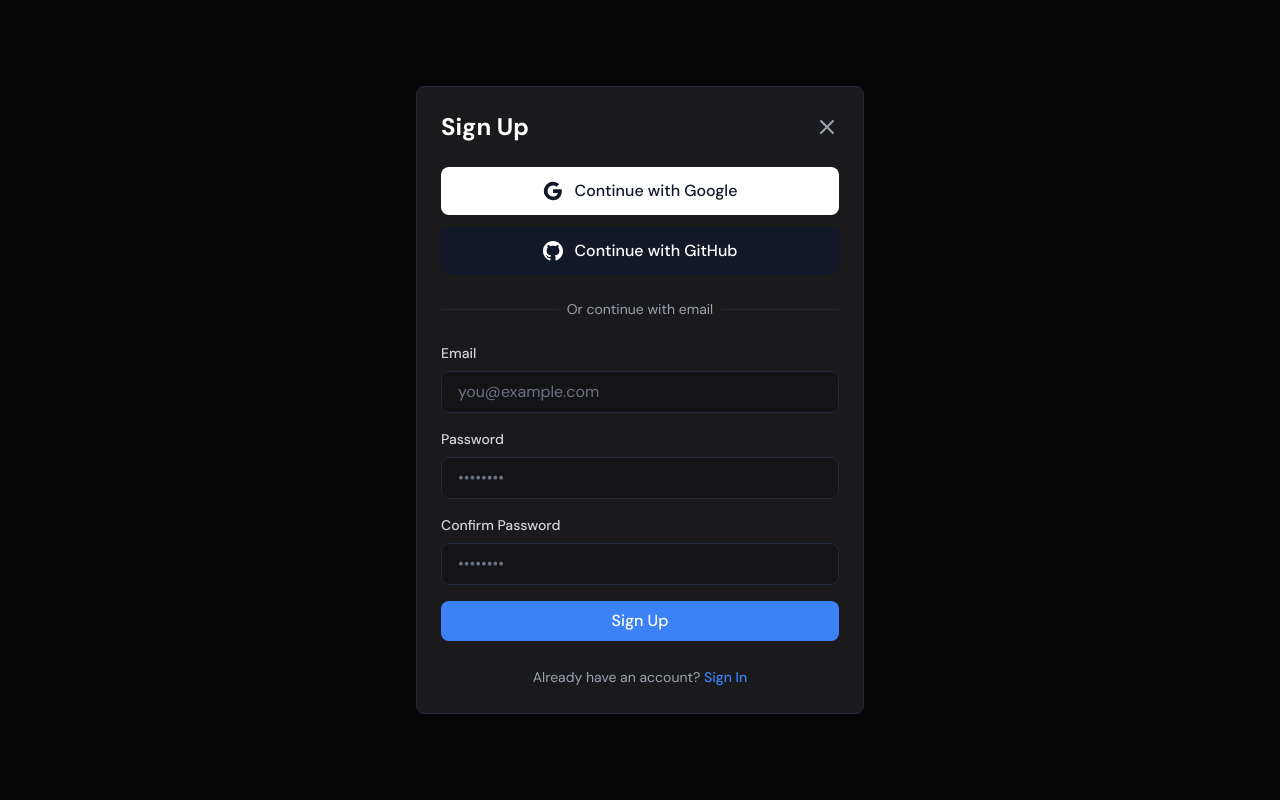
AuthModal › switches from sign up to sign in mode
Check: the heading "Sign Up" is shown, box [441,111,529,143]
Click the button "Already have an account? Sign In" at x=640, y=677, box [533,667,747,687]
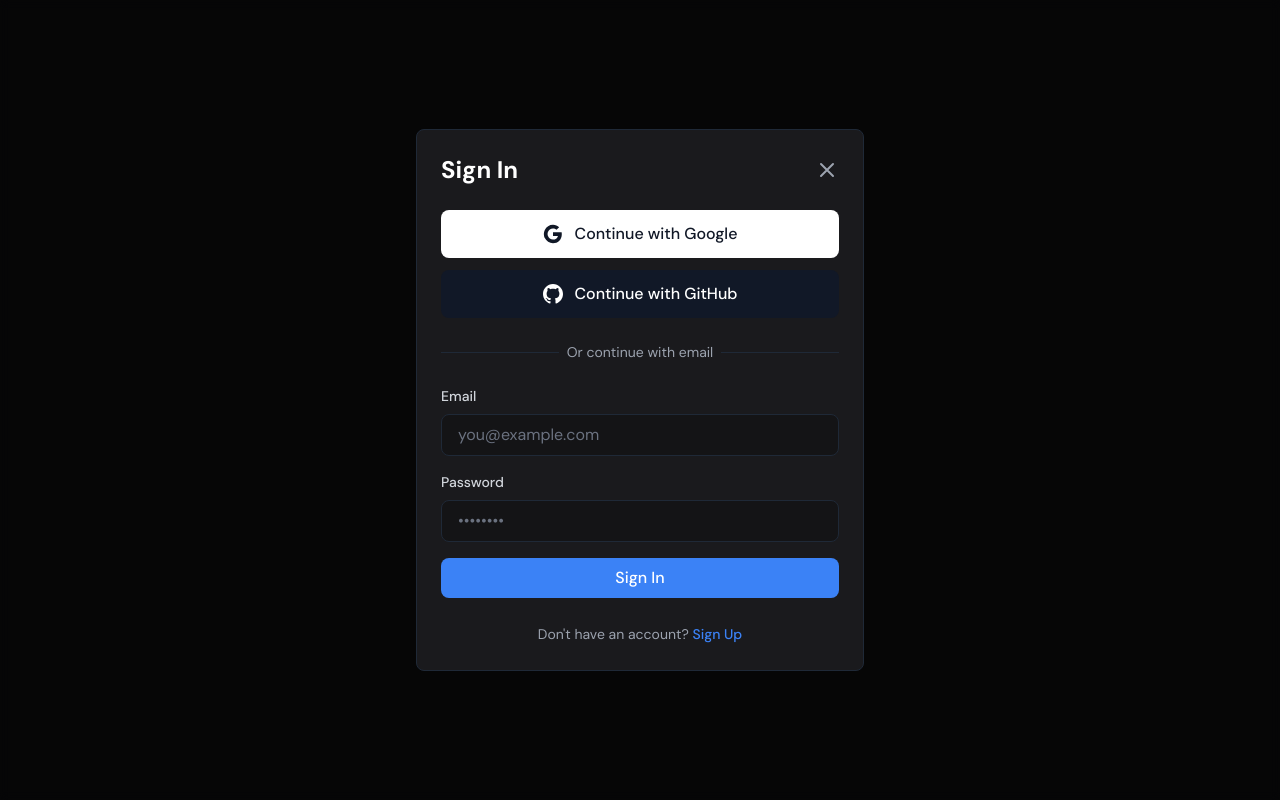
Check: the heading "Sign In" is shown, box [441,154,518,186]
